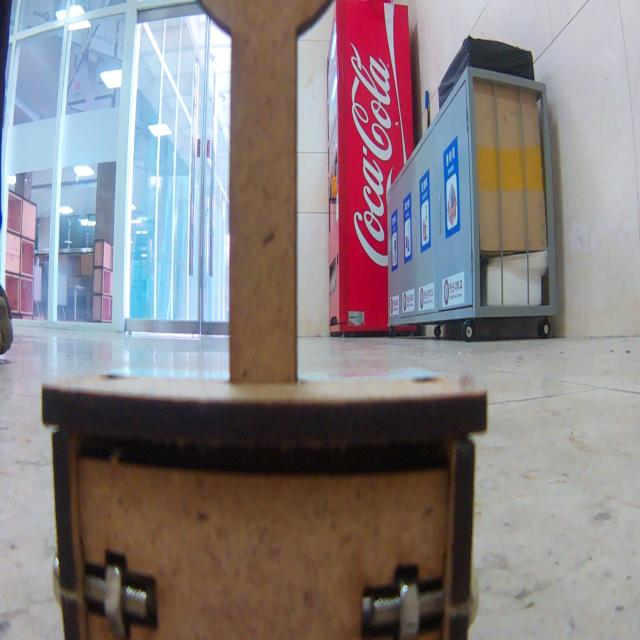target: (40, 0, 489, 640)
